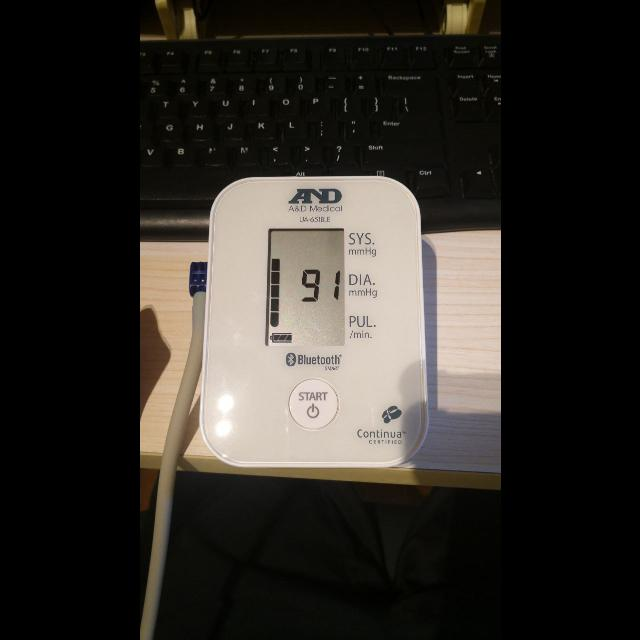Blood-Pressure-Monitor: (198, 176, 428, 470)
